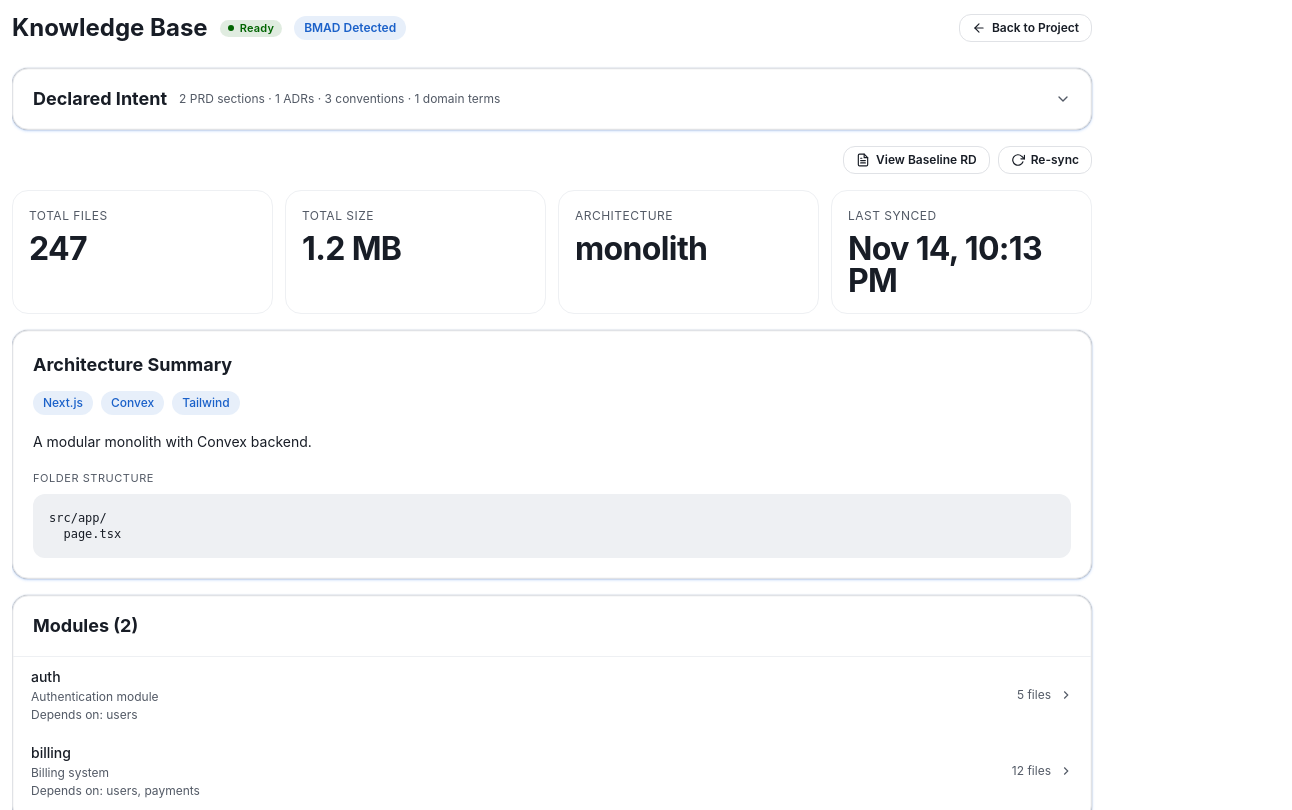
Scenario: KnowledgePage › Declared Intent section › collapses back on second click
Click the button "Declared Intent": [100, 98] box [13,69,1091,129]
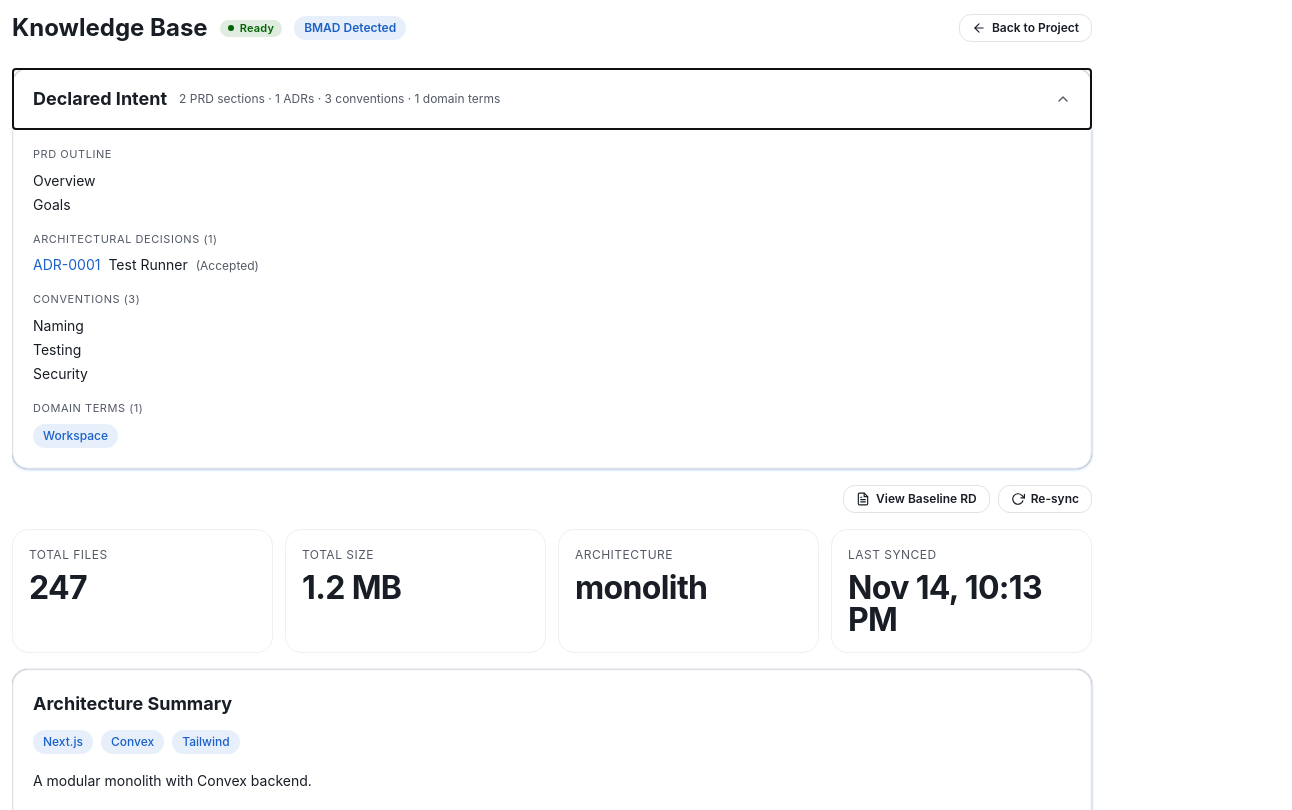
Expected: the text "PRD Outline" is shown, [33,147,112,161]
Click the button "Declared Intent": [100, 98] box [13,69,1091,129]
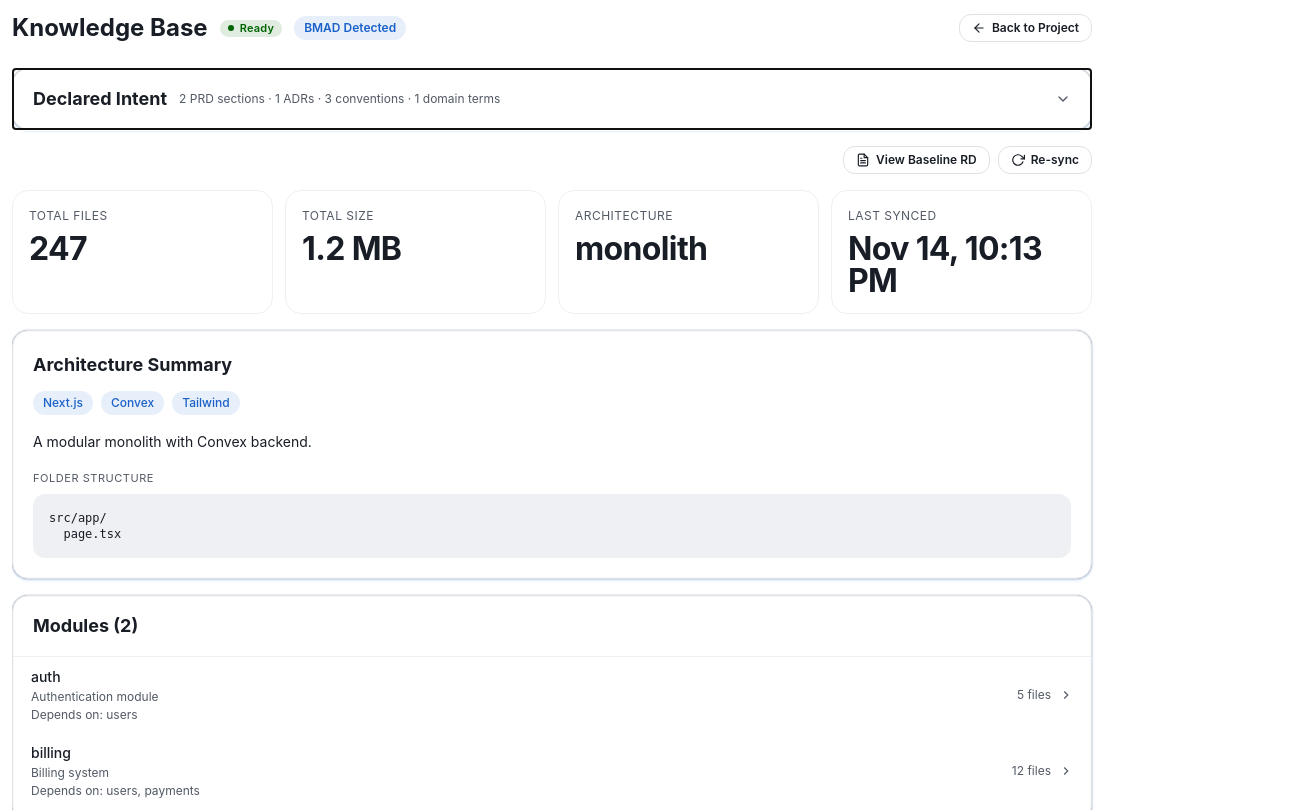
Expected: the text "PRD Outline" is gone
